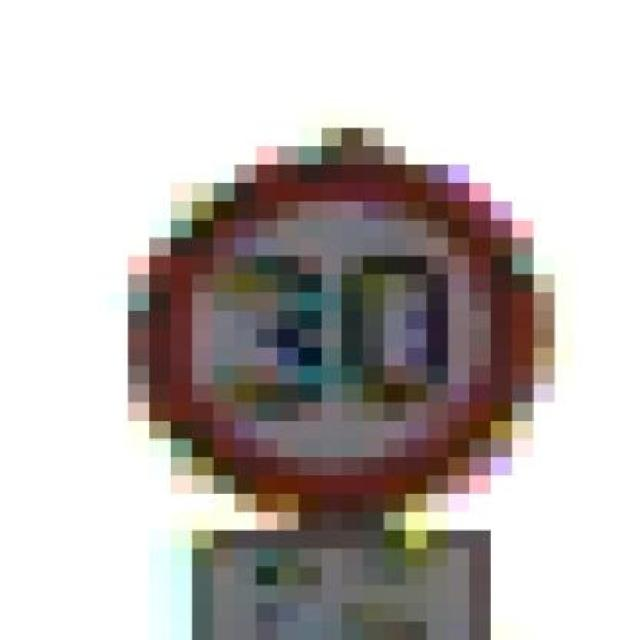forb_speed_over_30: (126, 157, 537, 509)
